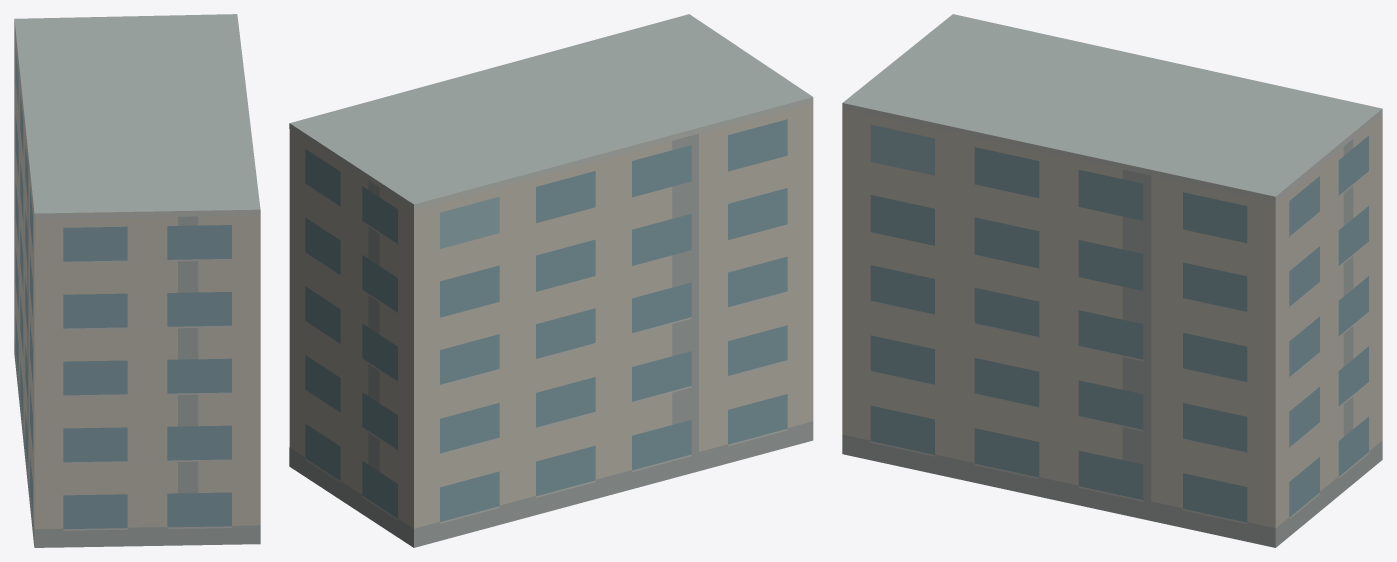
The model's file is survey-upis-32885235.glb.
3 views of the same model, side by side, from view 1: azimuth 30°, elevation 25°; view 2: azimuth 150°, elevation 25°; view 3: azimuth 270°, elevation 25° (orthographic). The views are drawn at different scales.
Visible parts, largest first — view 1: survey-upis-32885235.tmp; view 2: survey-upis-32885235.tmp; view 3: survey-upis-32885235.tmp.
Part boxes in pixels (left/top/right/bottom): survey-upis-32885235.tmp: left=14, top=14, right=260, bottom=547; survey-upis-32885235.tmp: left=289, top=14, right=813, bottom=547; survey-upis-32885235.tmp: left=842, top=14, right=1382, bottom=547.
Bounding box in the file's own units: 16.19 × 14.5 × 20.22.
